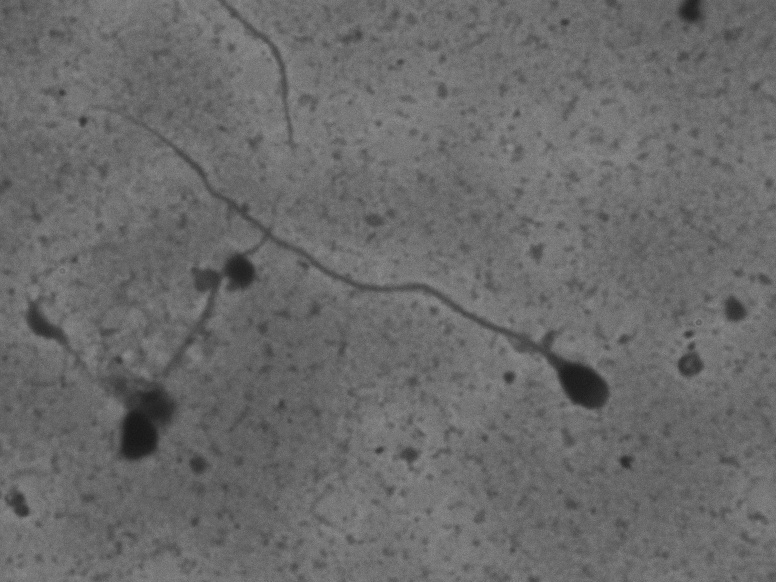Abnormal: (83, 218, 290, 504)
Normal: (76, 88, 628, 421)
